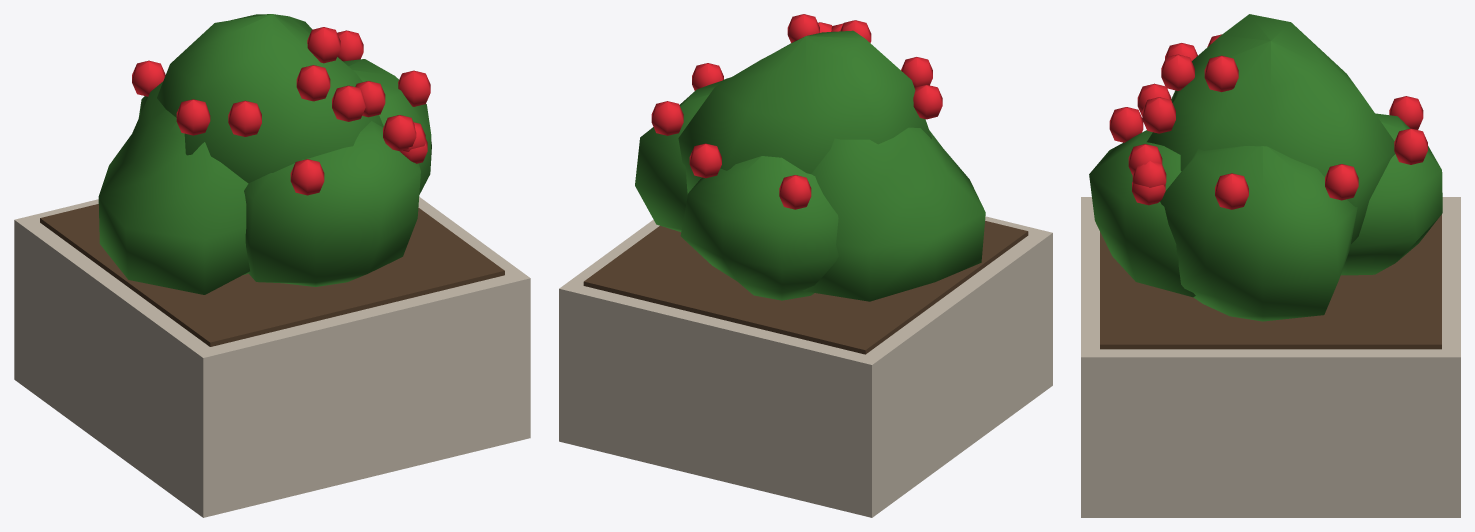
File: SM_Planter.fbx
3 views of the same model, side by side, from view 1: azimuth 30°, elevation 25°; view 2: azimuth 150°, elevation 25°; view 3: azimuth 270°, elevation 25° (orthographic). The views are drawn at different scales.
Visible parts, largest first — view 1: SM_Planter; view 2: SM_Planter; view 3: SM_Planter.
Part boxes in pixels (left/top/right/bottom): SM_Planter: left=14, top=14, right=530, bottom=517; SM_Planter: left=559, top=14, right=1052, bottom=517; SM_Planter: left=1081, top=14, right=1460, bottom=517.
Size of what is drawn, in the model's own units: 1.52 by 1.74 by 1.5.
